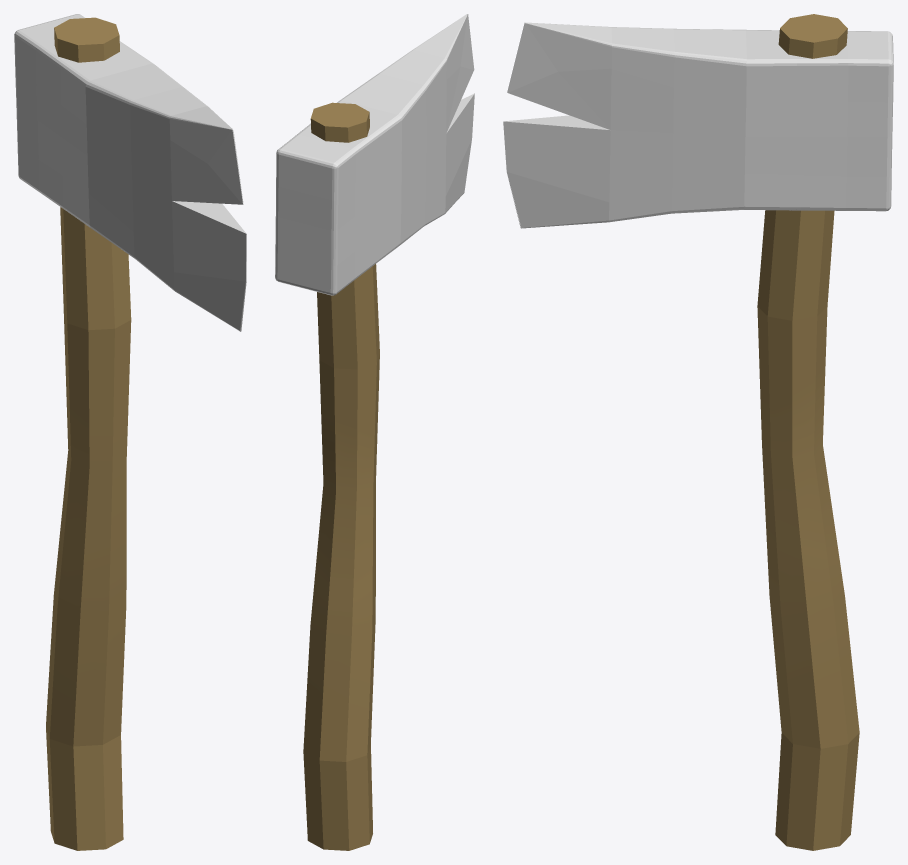
The model's file is Axe_Low.fbx.
The picture shows the model from 3 angles, left to right: view 1: azimuth 30°, elevation 25°; view 2: azimuth 150°, elevation 25°; view 3: azimuth 270°, elevation 25°; orthographic projection. The views are drawn at different scales.
Visible parts, largest first — view 1: Axe_Low; view 2: Axe_Low; view 3: Axe_Low.
Part boxes in pixels (x1=…): Axe_Low: x1=14, y1=14, x2=246, y2=850; Axe_Low: x1=275, y1=14, x2=474, y2=850; Axe_Low: x1=503, y1=14, x2=893, y2=850.
Bounding box in the file's own units: 6.2 × 64.92 × 28.25.
